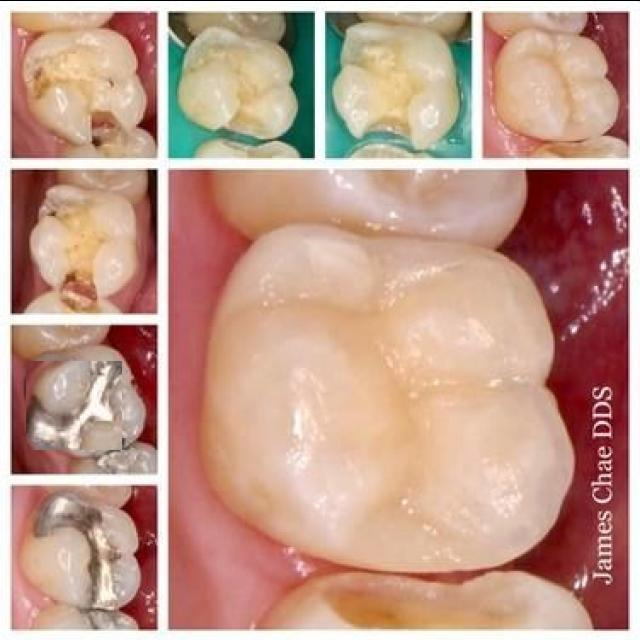decay: (91, 106, 135, 152), (57, 267, 101, 309)
